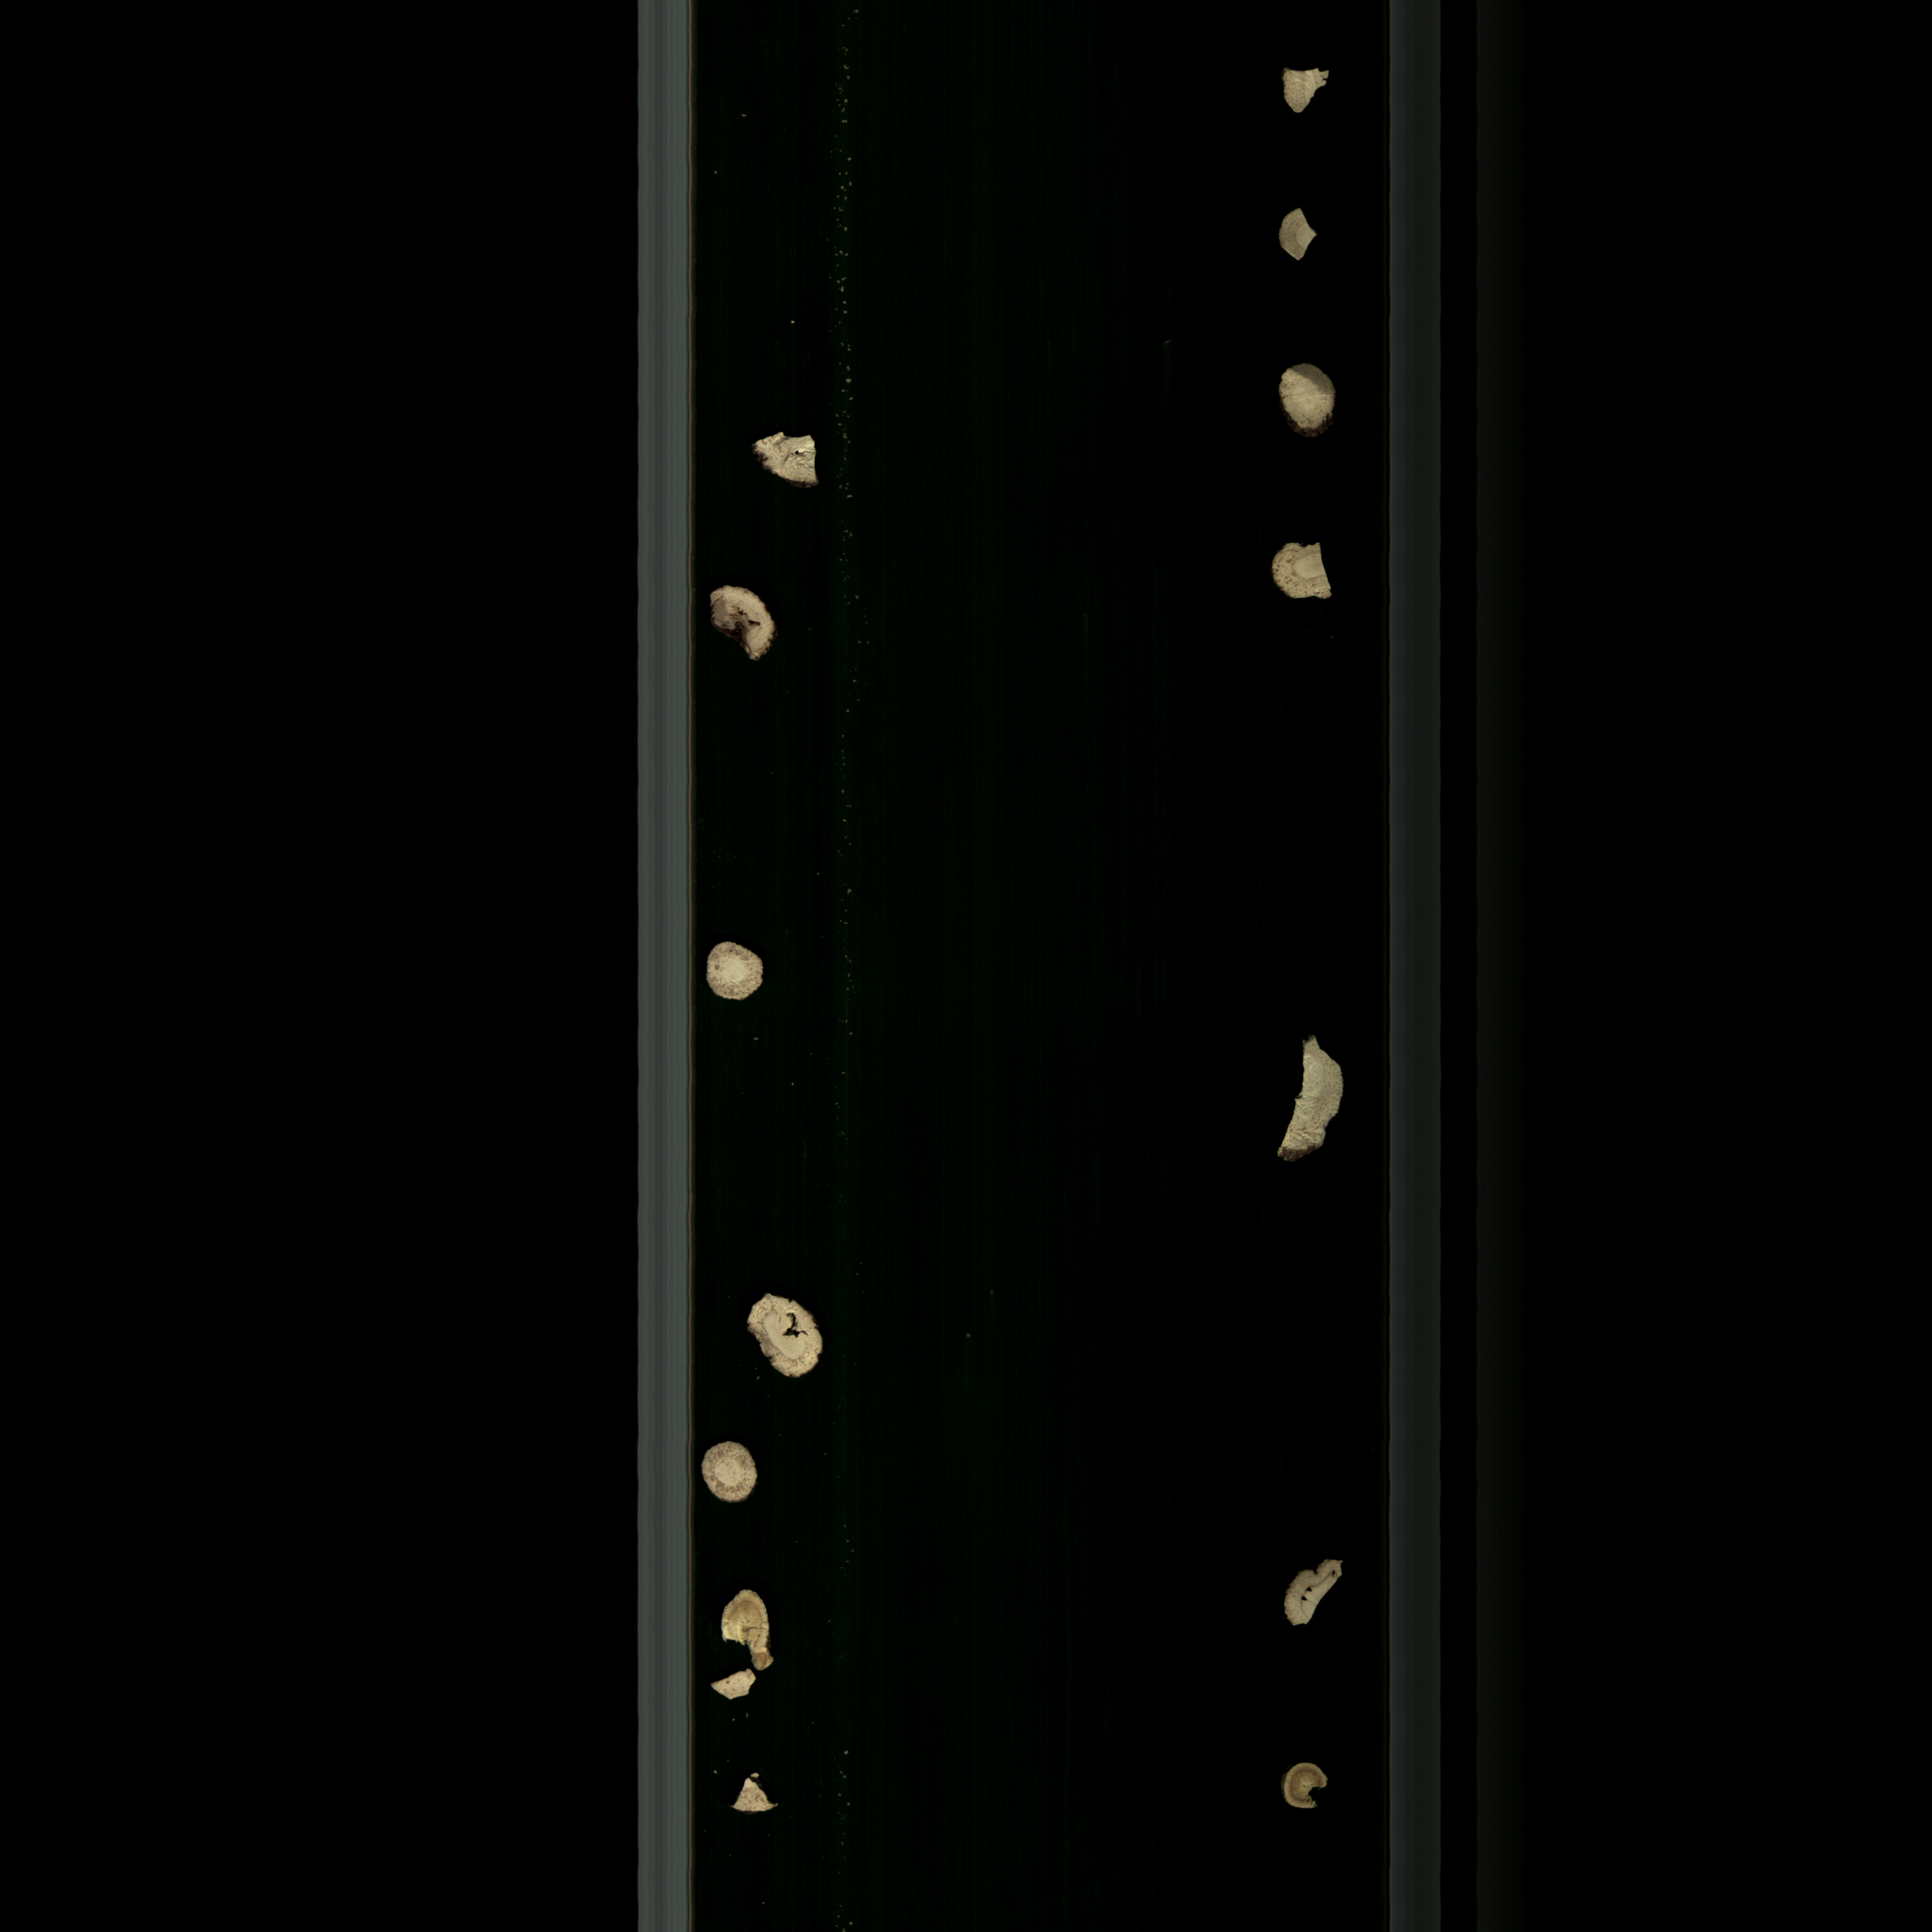debris: (1272, 1024, 1357, 1177), (708, 1583, 791, 1670), (1263, 534, 1352, 607), (740, 425, 823, 501)
dreg: (1267, 1555, 1353, 1637), (1274, 196, 1330, 274), (718, 1764, 793, 1822), (1276, 58, 1339, 126), (699, 1661, 763, 1706)
hole: (727, 1292, 842, 1392)
moldy: (701, 580, 800, 667), (1274, 1746, 1334, 1821)
